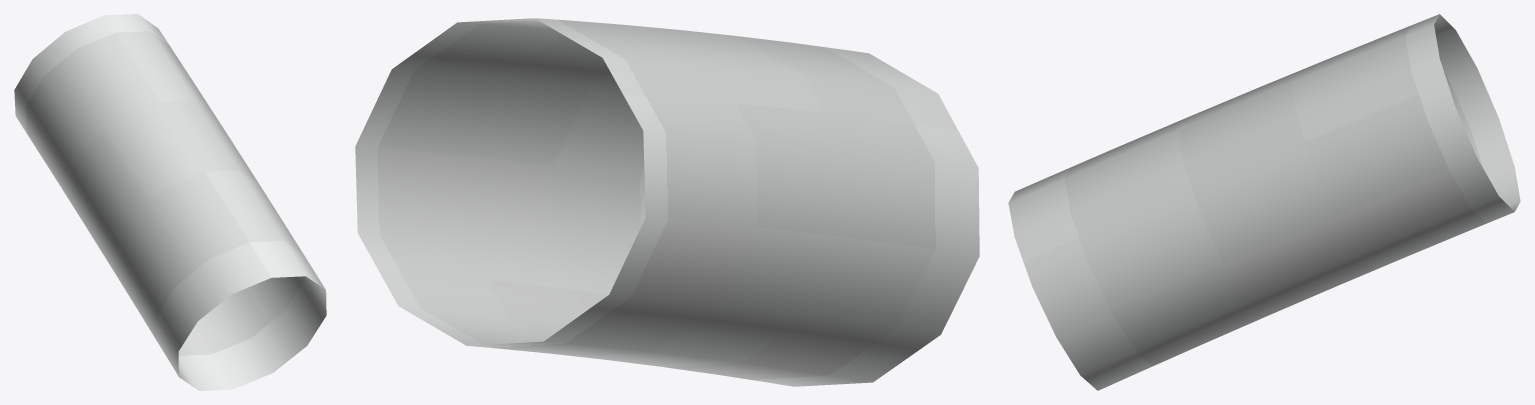
The model's file is luminairearm_truss12ftdouble_c2.obj.
3 views of the same model, side by side, from view 1: azimuth 30°, elevation 25°; view 2: azimuth 150°, elevation 25°; view 3: azimuth 270°, elevation 25° (orthographic). The views are drawn at different scales.
Visible parts, largest first — view 1: luminairearm_truss12ftdouble_c2; view 2: luminairearm_truss12ftdouble_c2; view 3: luminairearm_truss12ftdouble_c2.
Boxes of the visible parts, x1,y1,x2,y2 form: luminairearm_truss12ftdouble_c2: (14, 14, 326, 390); luminairearm_truss12ftdouble_c2: (355, 18, 979, 386); luminairearm_truss12ftdouble_c2: (1008, 14, 1520, 390).
Bounding box in the file's own units: 0.2192 × 0.395 × 0.5164.
